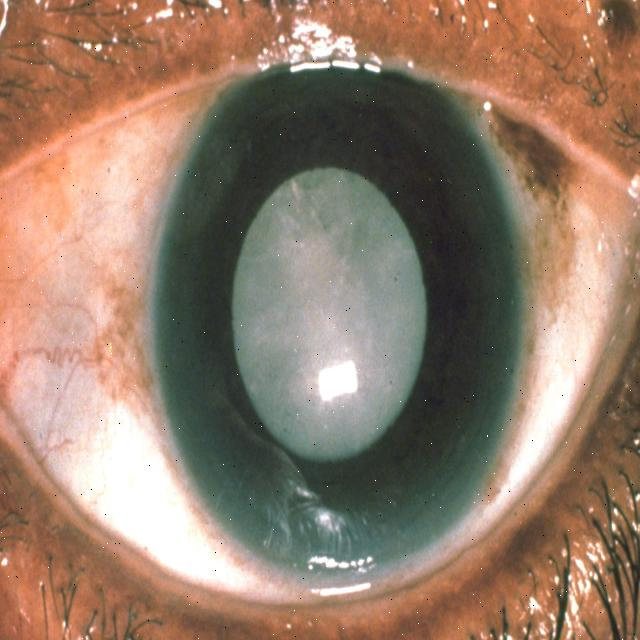Cataract: (144, 37, 534, 596)
